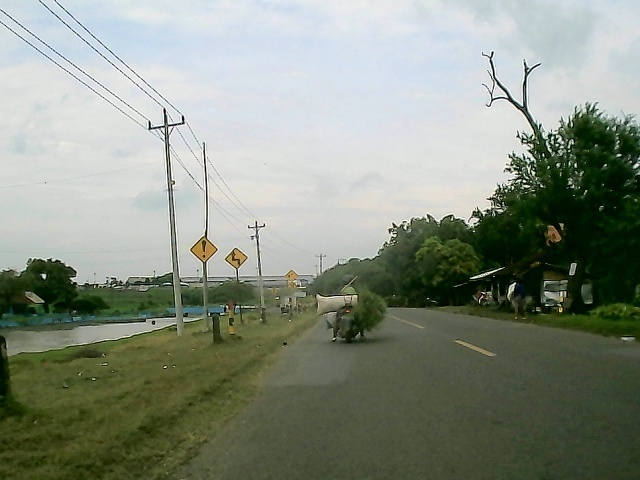Hati-hati: (186, 236, 219, 264)
Tikungan garda pertama kiri: (224, 246, 249, 271)
